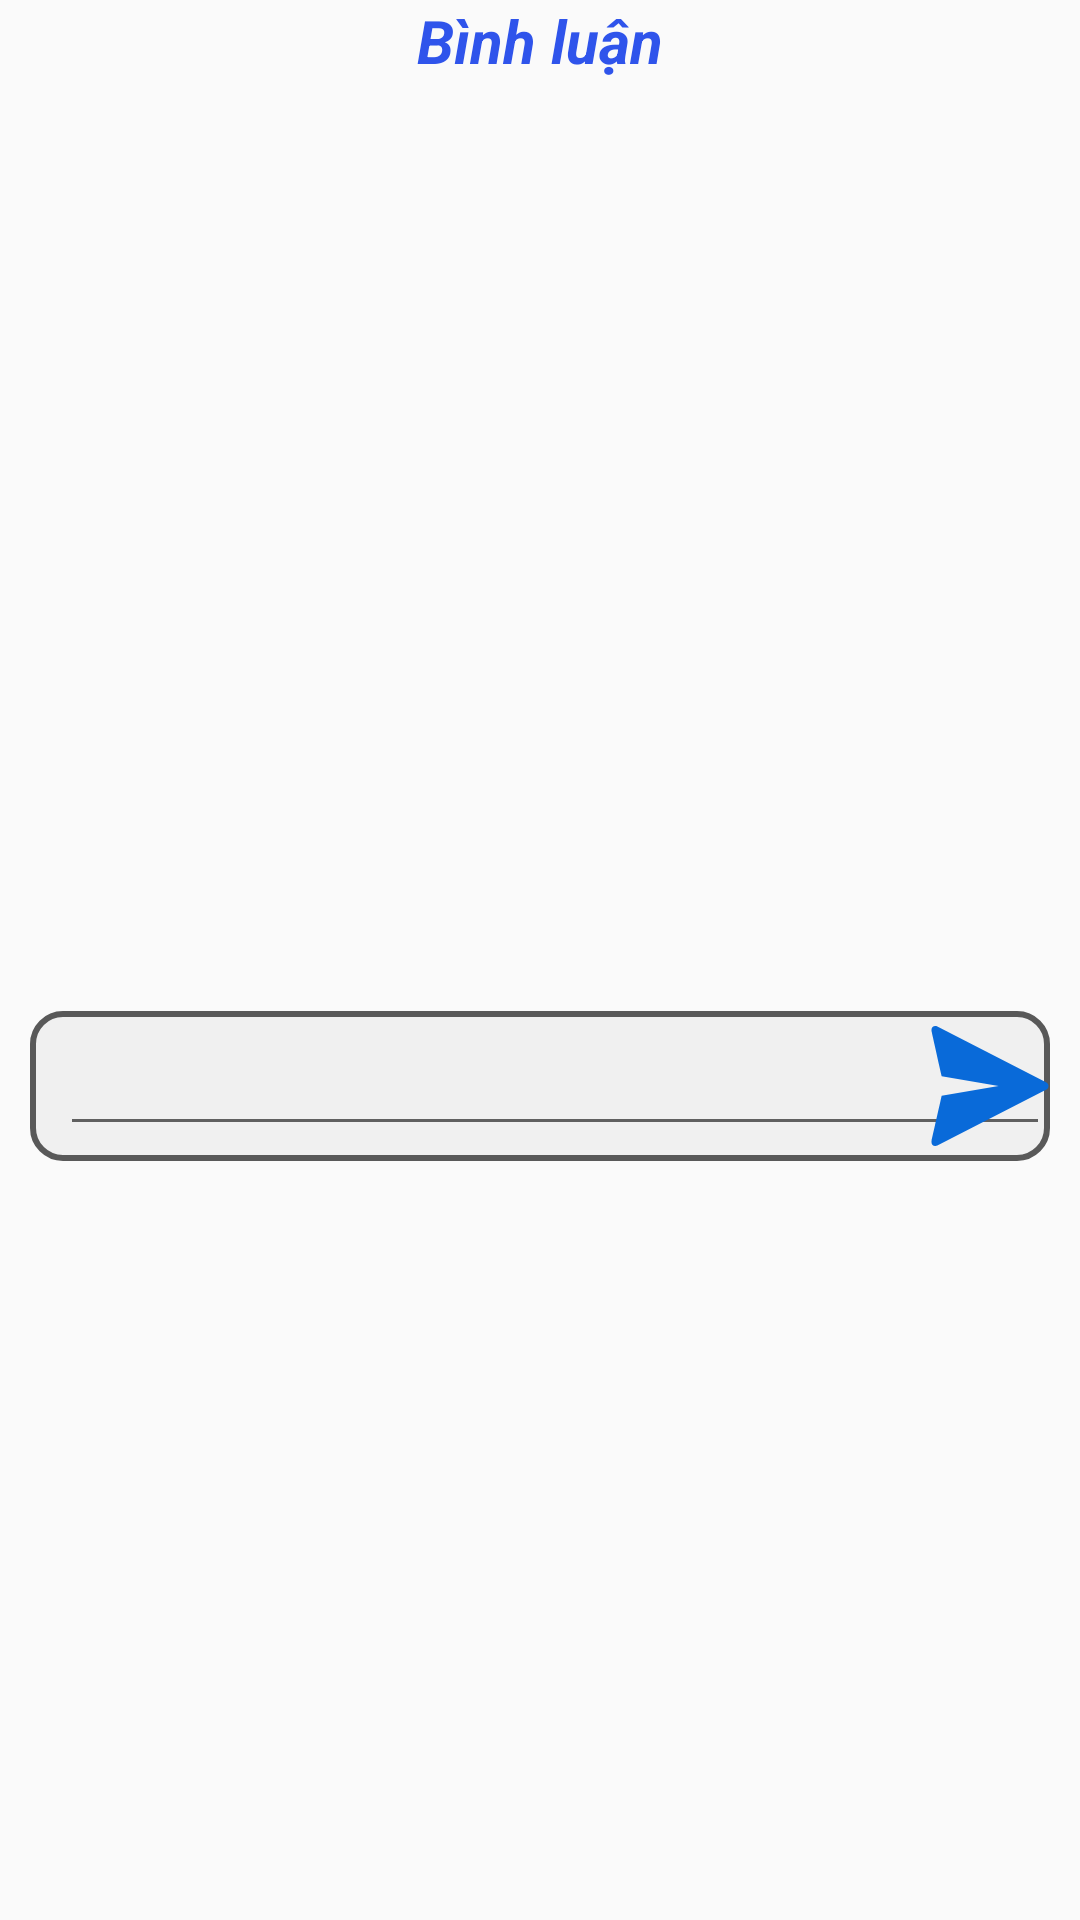

Icon click points for this 1080 × 1920 phone screenshot, format [x,y]:
send: [990,1086]
